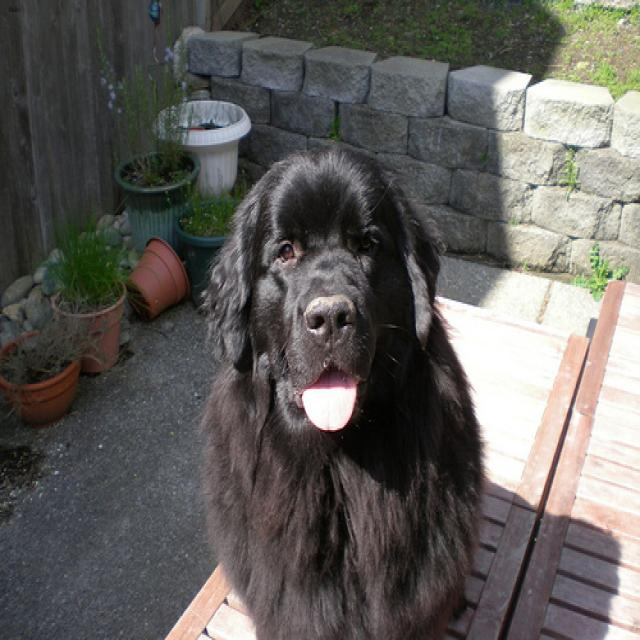dog-newfoundland: (192, 135, 493, 637)
